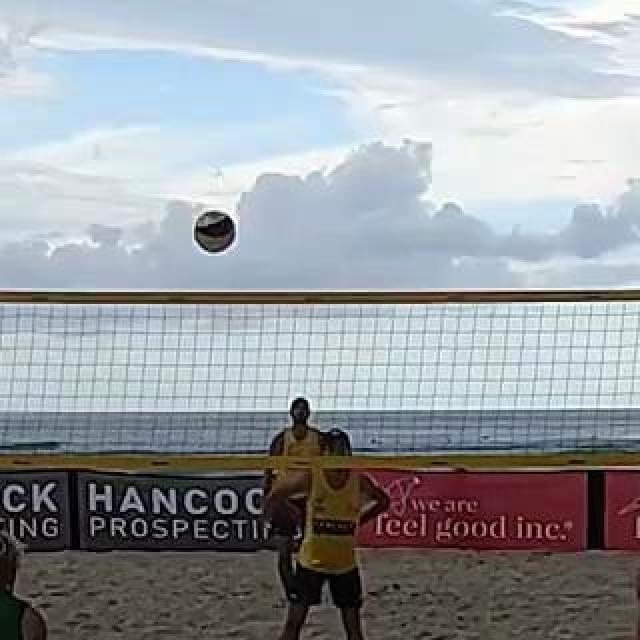volleyball: (193, 211, 237, 253)
